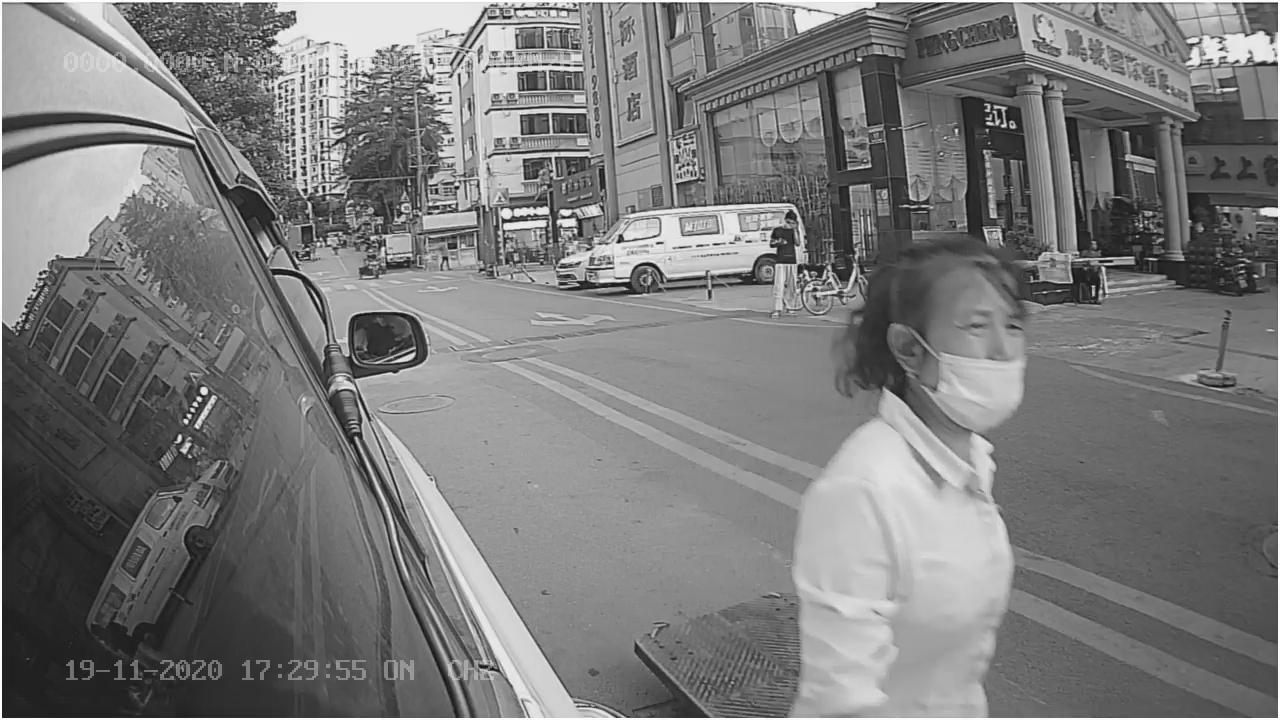person: (792, 256, 1046, 712)
